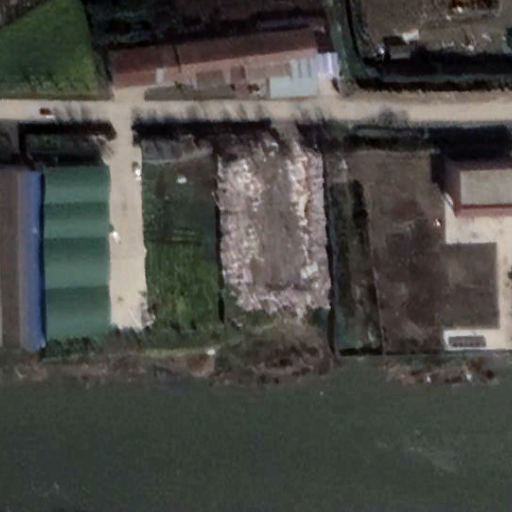msw: (217, 155, 332, 312)
